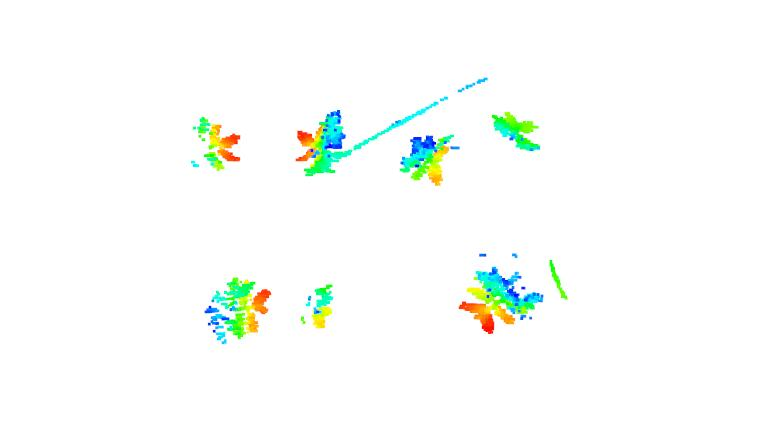chickpea: (457, 264, 546, 335), (203, 276, 271, 345), (185, 116, 249, 174), (294, 110, 350, 174), (398, 134, 462, 188), (490, 111, 542, 154), (300, 283, 338, 330)
